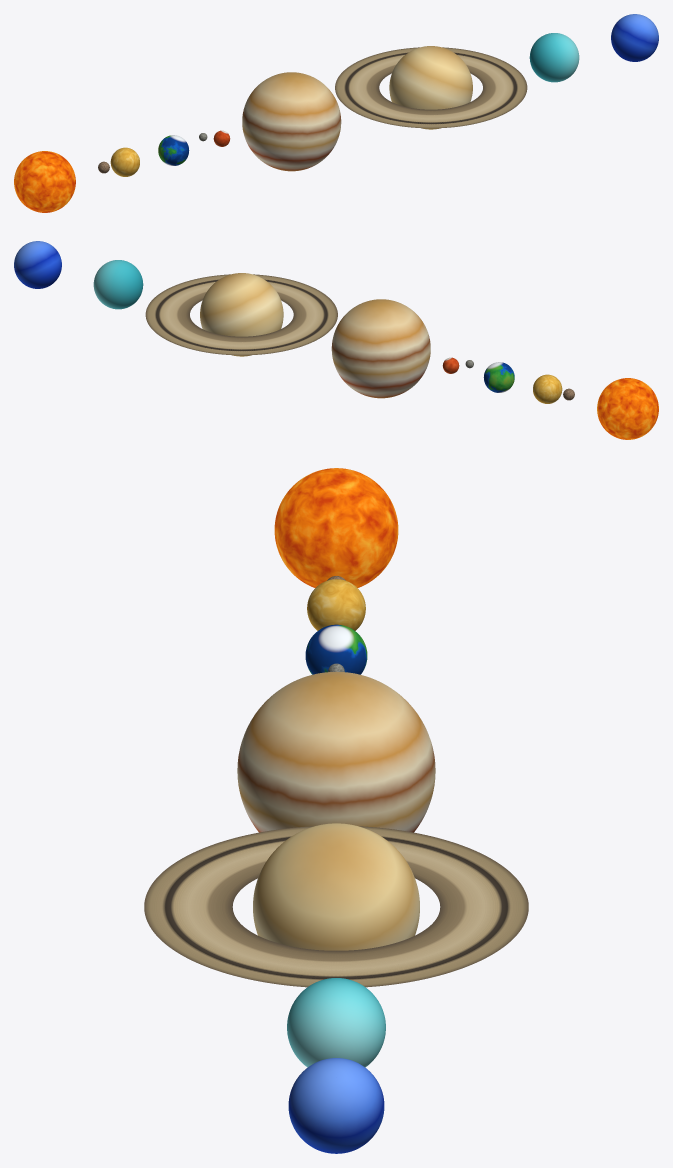
Rendered from solar-system.gltf.
The picture shows the model from 3 angles, top to bottom: view 1: azimuth 30°, elevation 25°; view 2: azimuth 150°, elevation 25°; view 3: azimuth 270°, elevation 25°; orthographic projection. The views are drawn at different scales.
Parts seen in each view (by area): view 1: Jupiter, SaturnRings, Saturn, Sun, Uranus, Neptune, Earth, Venus; view 2: Jupiter, SaturnRings, Saturn, Sun, Uranus, Neptune, Earth, Venus; view 3: SaturnRings, Jupiter, Saturn, Sun, Neptune, Uranus, Earth, Venus.
Boxes of the visible parts, <box> form: Jupiter: <box>242,72,341,171</box>; SaturnRings: <box>335,47,527,128</box>; Saturn: <box>389,46,472,129</box>; Sun: <box>14,151,75,212</box>; Uranus: <box>529,33,579,82</box>; Neptune: <box>611,14,658,61</box>; Earth: <box>158,135,189,165</box>; Venus: <box>110,147,139,176</box>; Jupiter: <box>331,299,430,398</box>; SaturnRings: <box>145,274,337,355</box>; Saturn: <box>200,273,283,356</box>; Sun: <box>597,378,658,439</box>; Uranus: <box>93,260,143,309</box>; Neptune: <box>14,241,61,288</box>; Earth: <box>483,362,514,392</box>; Venus: <box>533,374,562,403</box>; SaturnRings: <box>144,826,528,987</box>; Jupiter: <box>237,671,435,832</box>; Saturn: <box>253,823,419,950</box>; Sun: <box>274,468,398,587</box>; Neptune: <box>288,1058,384,1153</box>; Uranus: <box>287,978,385,1067</box>; Earth: <box>305,624,367,674</box>; Venus: <box>307,579,365,630</box>.
Bounding box in the file's own units: 119 × 16 × 31.05.
Materials: 11 (11 with a texture image).
